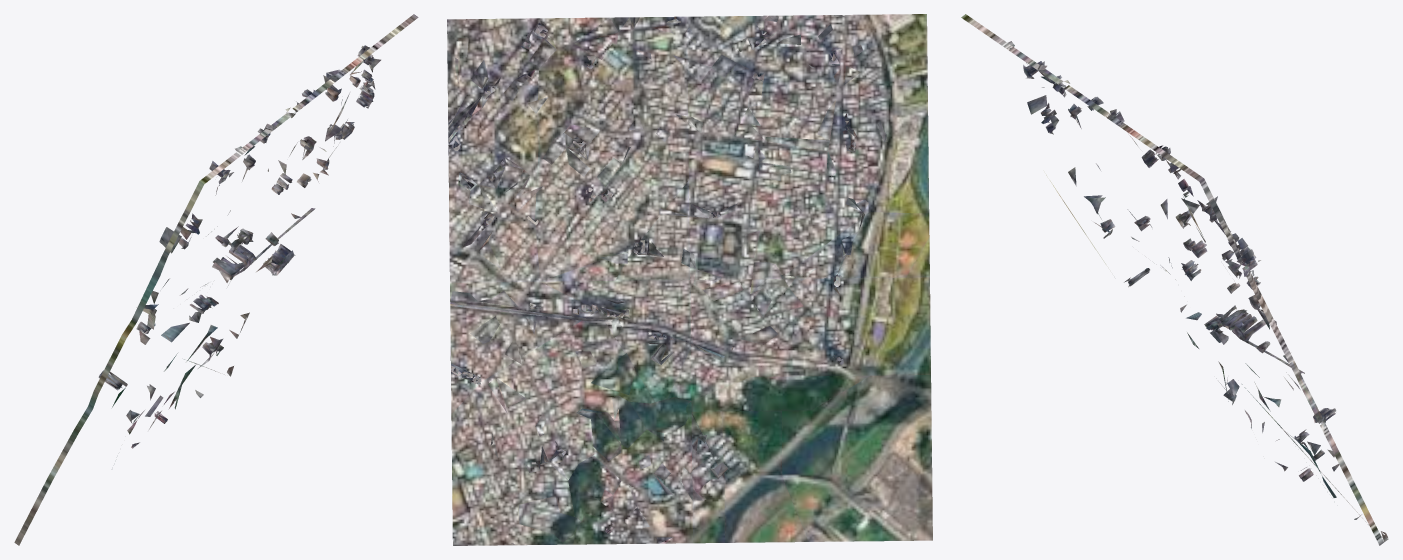
3 renders of one model, left to right at view 1: azimuth 30°, elevation 25°; view 2: azimuth 150°, elevation 25°; view 3: azimuth 270°, elevation 25°, orthographic. The views are drawn at different scales.
Bounding box in the file's own units: 2451 × 2241 × 2084.
Materials: 1 (1 with a texture image).
